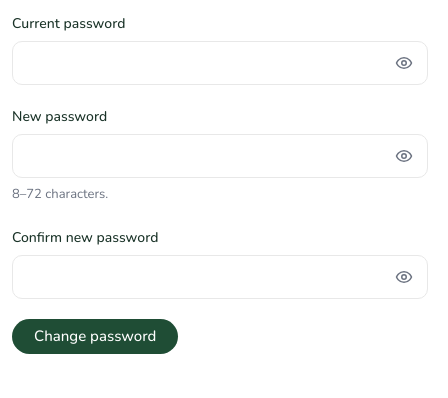
Test: ChangePasswordFormComponent › points at the current password when the server rejects it
Type "wrong-password" into the password field labelled "Current password" at (220, 63), box [12,41,428,85]
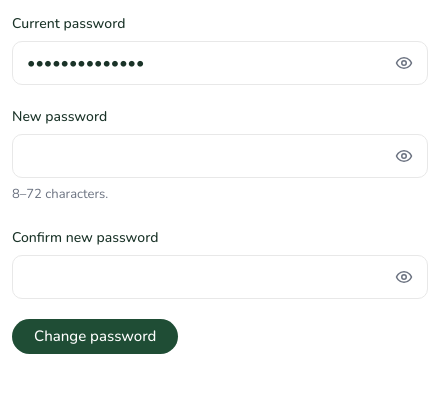
Type "new-password" into the password field with id "new-password" at (220, 156), box [12,134,428,178]
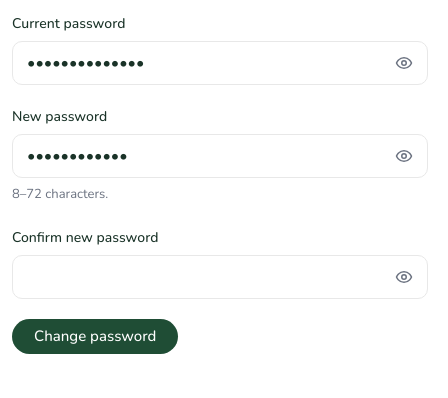
Type "new-password" into the password field labelled "Confirm new password" at (220, 277), box [12,255,428,299]
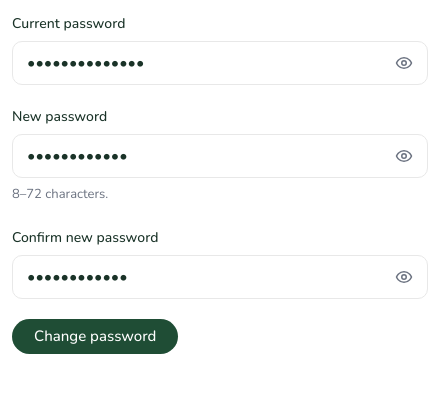
Submit the form
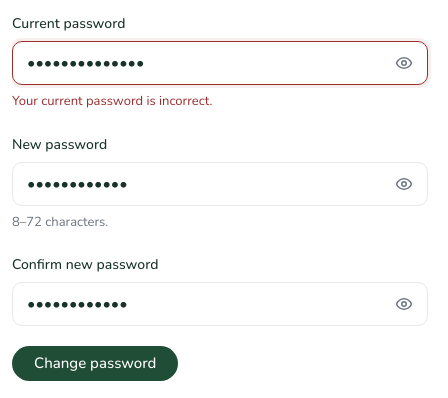
Expected: the text with id "current-password-error" shows "incorrect", [12,92,212,110]
